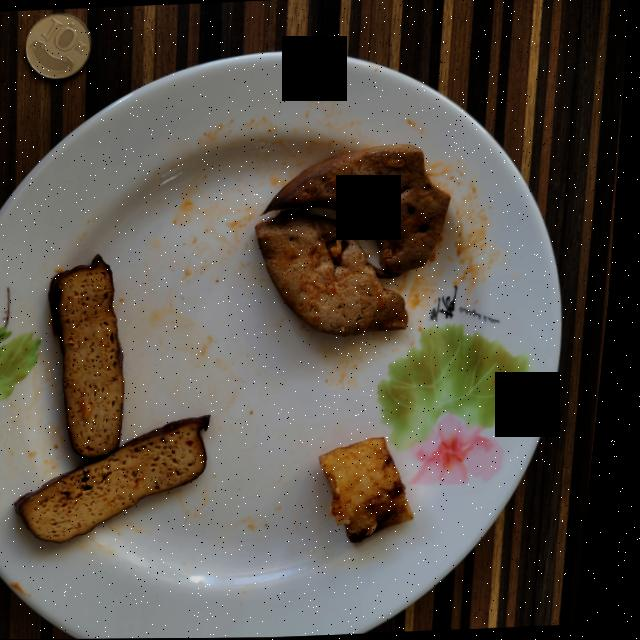coin: (25, 13, 91, 79)
firm tofu: (24, 255, 217, 543)
fried potato: (328, 439, 423, 543)
pig liver: (259, 145, 453, 337)
